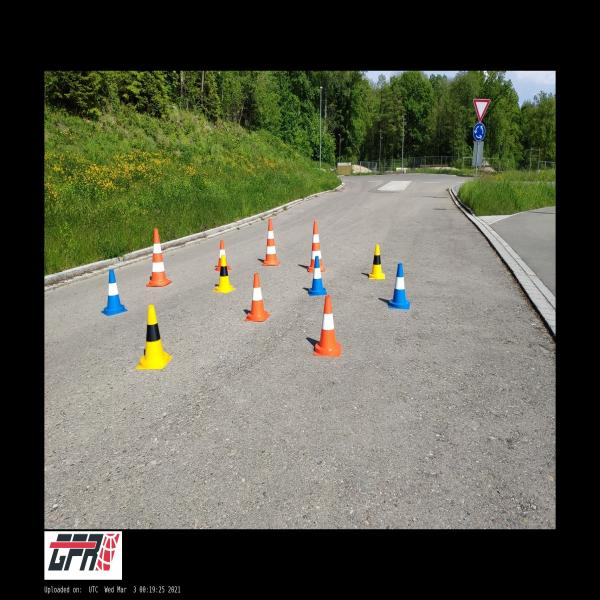blue_cone: (101, 270, 127, 316), (388, 263, 410, 310), (308, 256, 327, 296)
large_orange_cone: (146, 229, 172, 287), (308, 221, 325, 272), (262, 219, 280, 266)
orange_cone: (314, 295, 341, 356), (244, 273, 271, 322), (214, 240, 231, 272)
yellow_cone: (136, 305, 172, 369), (214, 255, 235, 293), (369, 244, 385, 280)
